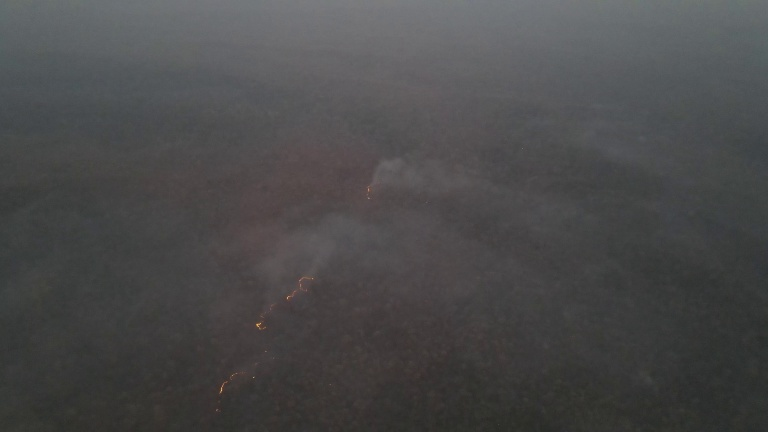fire: (270, 272, 320, 305), (211, 370, 238, 412), (251, 310, 277, 334), (362, 180, 376, 201)
smoke: (289, 209, 390, 273), (375, 158, 434, 185)
